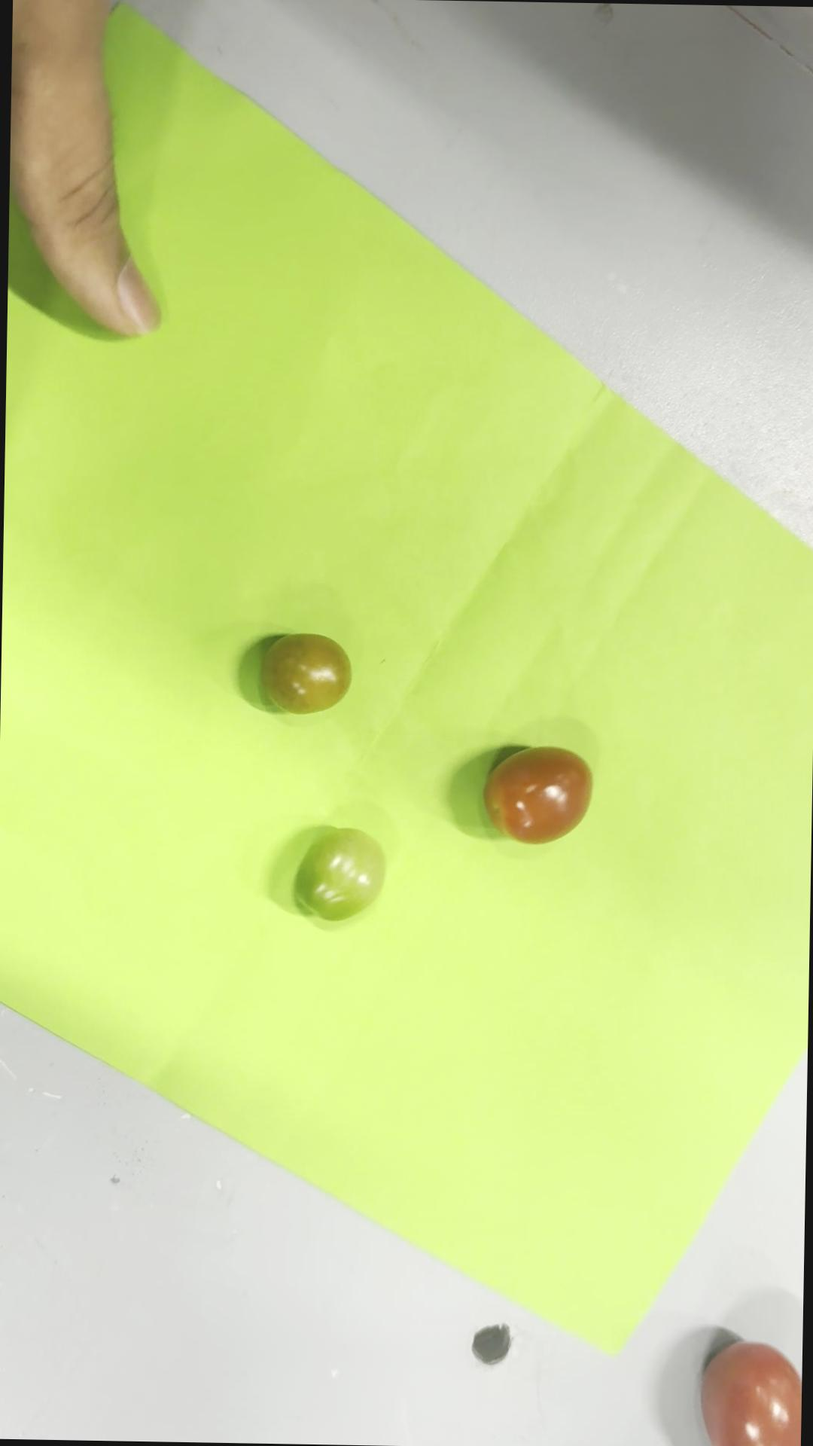green_cherry_tomato: (294, 828, 385, 923)
red_cherry_tomato: (485, 747, 591, 843)
yellow_cherry_tomato: (261, 633, 350, 714)
